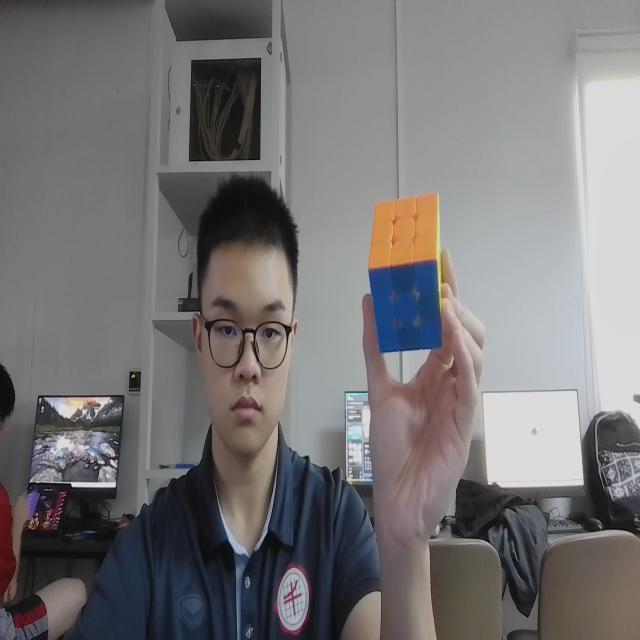rubik: (363, 185, 455, 365)
